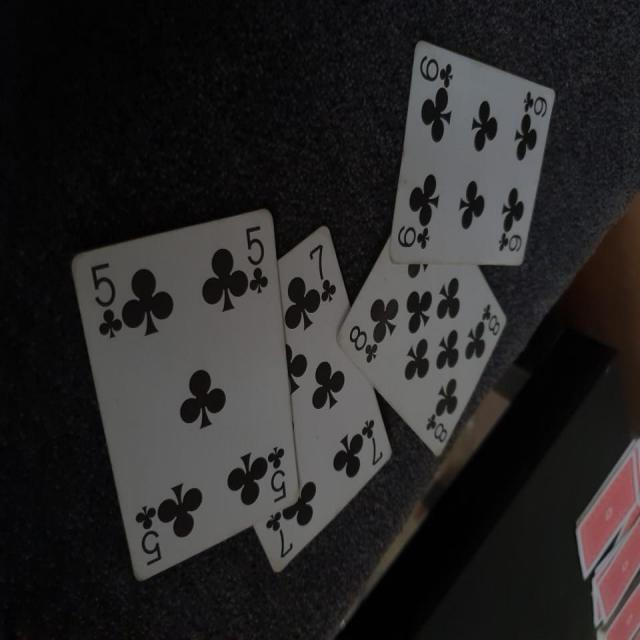5 of clubs: (68, 206, 300, 582)
6 of clubs: (389, 38, 556, 268)
7 of clubs: (252, 218, 395, 574)
8 of clubs: (336, 236, 509, 456)
